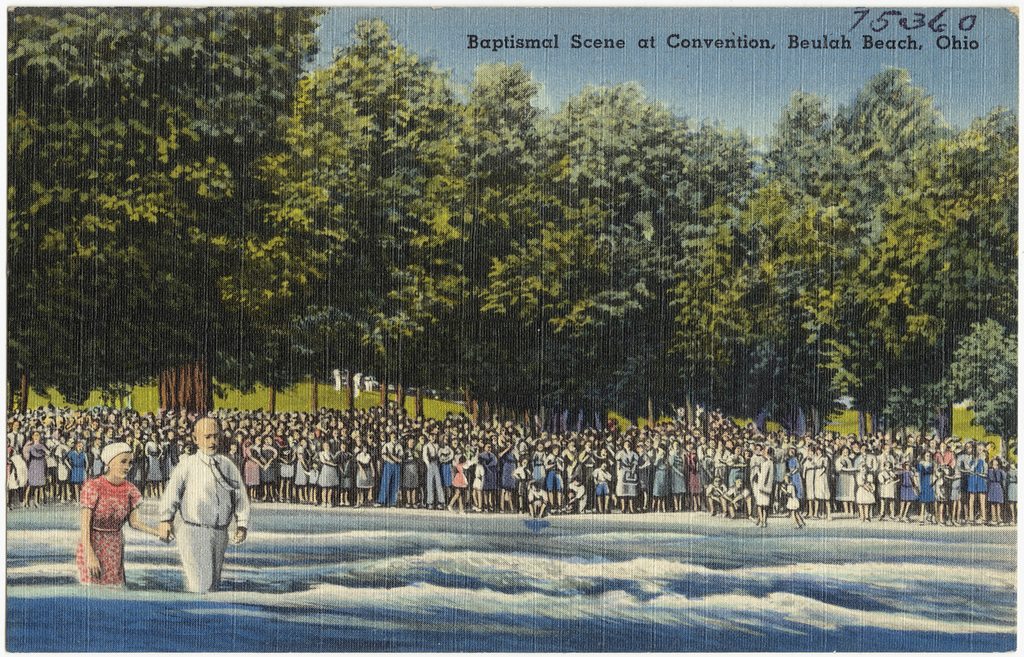Tree: (6, 6, 322, 412), (274, 18, 471, 424), (795, 104, 1023, 405), (476, 75, 675, 415), (740, 85, 872, 316), (664, 215, 774, 412), (838, 59, 955, 243), (454, 67, 546, 259), (641, 110, 751, 268), (952, 319, 1023, 463)
